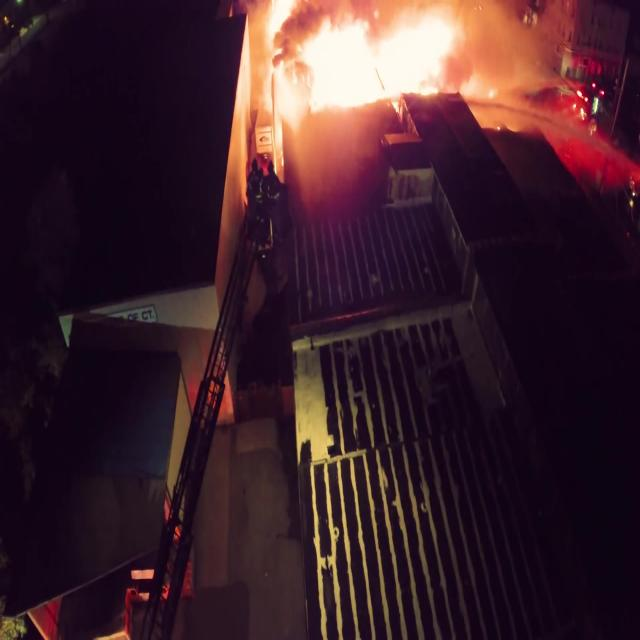Fire: (263, 20, 429, 154)
Smoke: (261, 3, 552, 112)
